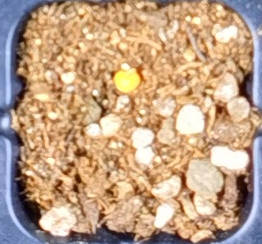pepper seed: (43, 20, 185, 115)
